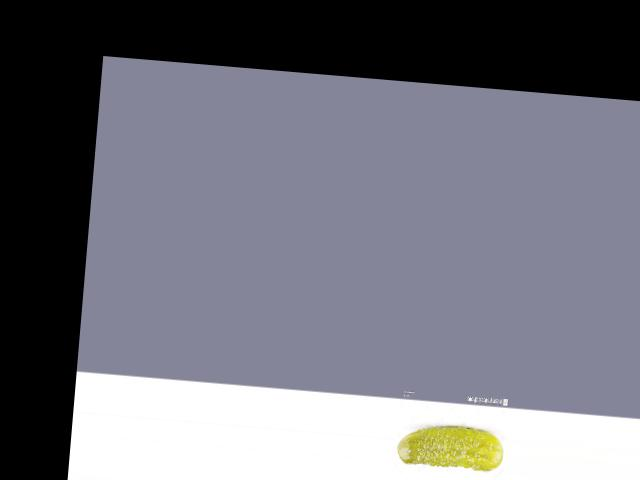cucumber: (394, 420, 504, 472)
